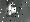person: (7, 1, 15, 18), (11, 7, 16, 16)
